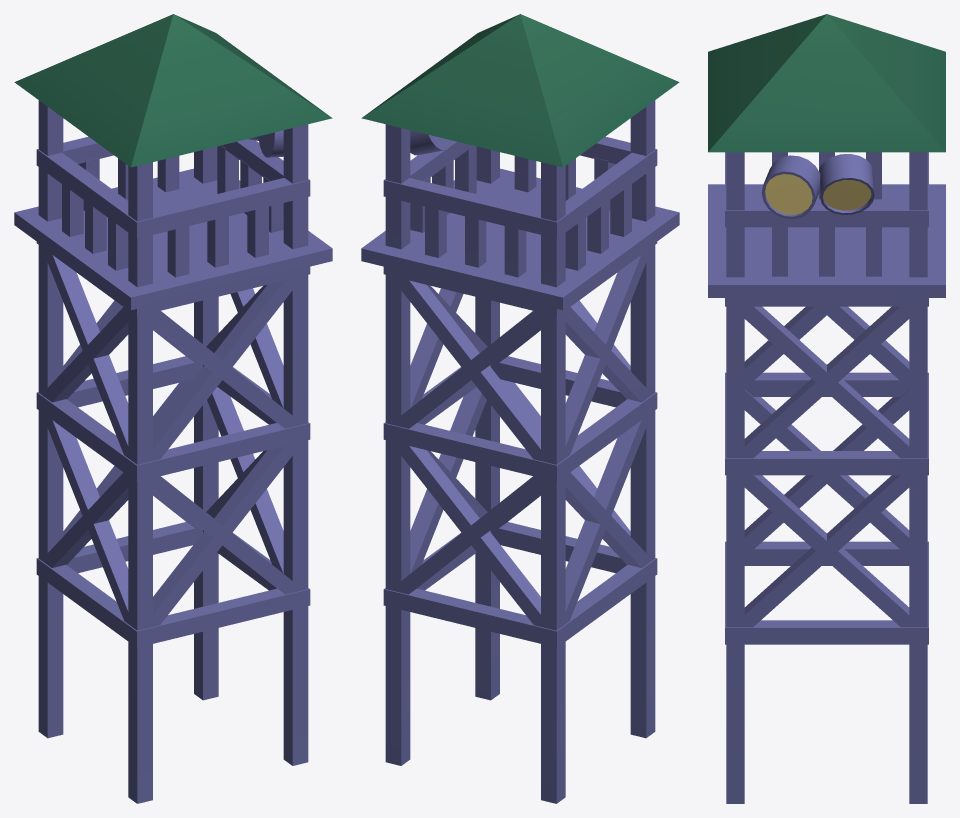
The model's file is military_turret.fbx.
The picture shows the model from 3 angles, left to right: view 1: azimuth 30°, elevation 25°; view 2: azimuth 150°, elevation 25°; view 3: azimuth 270°, elevation 25°; orthographic projection.
Visible parts, largest first — view 1: military_turret; view 2: military_turret; view 3: military_turret.
Boxes of the visible parts, bbox=[...] form: military_turret: bbox=[14, 14, 332, 803]; military_turret: bbox=[361, 14, 679, 803]; military_turret: bbox=[708, 14, 945, 803].
Size of the model in its own units: 1.64 by 5.46 by 1.57.
